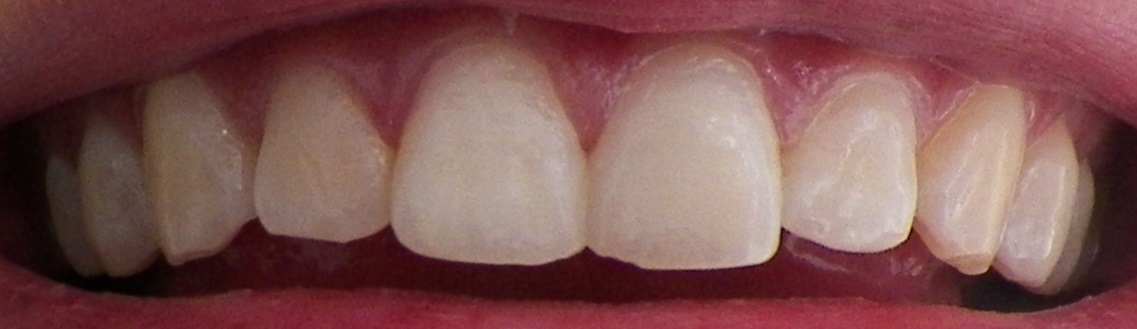boca: (36, 55, 1094, 301)
